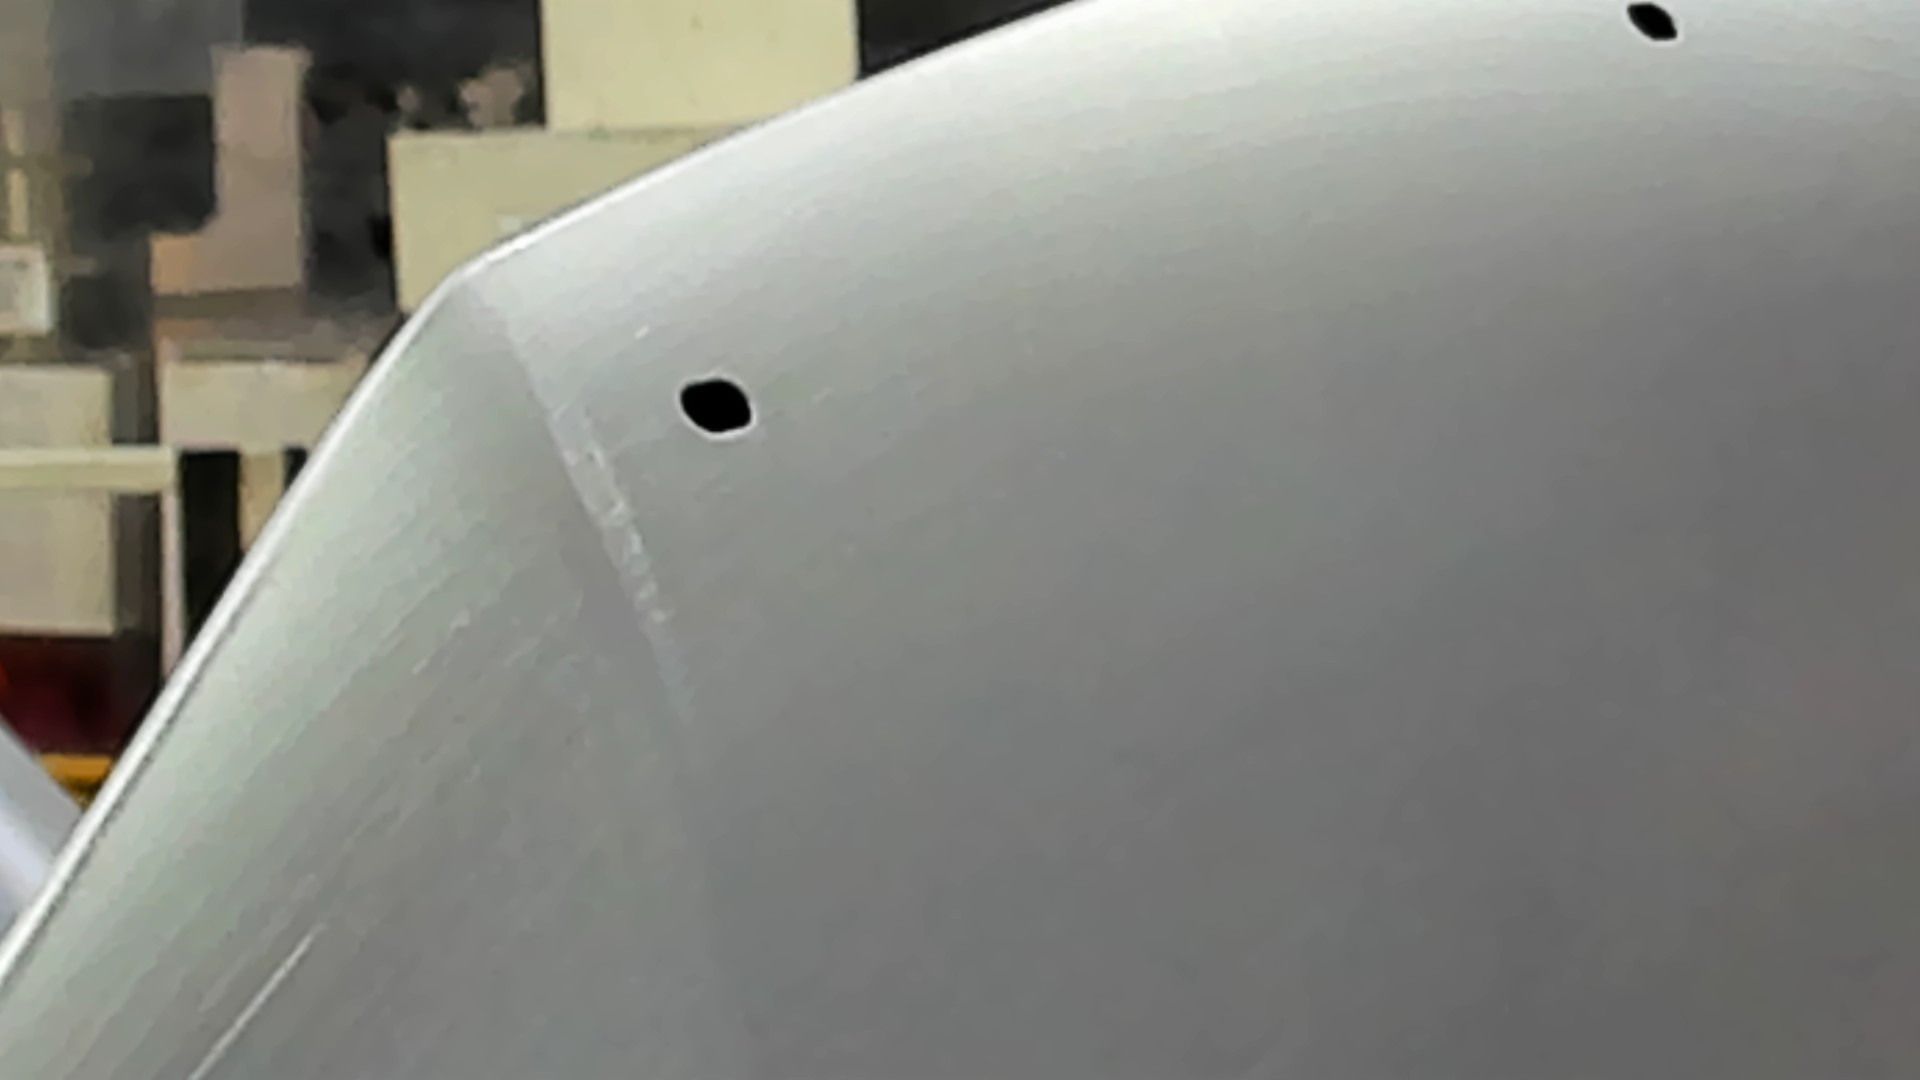amorfo: (676, 372, 760, 446), (1619, 1, 1687, 49)
